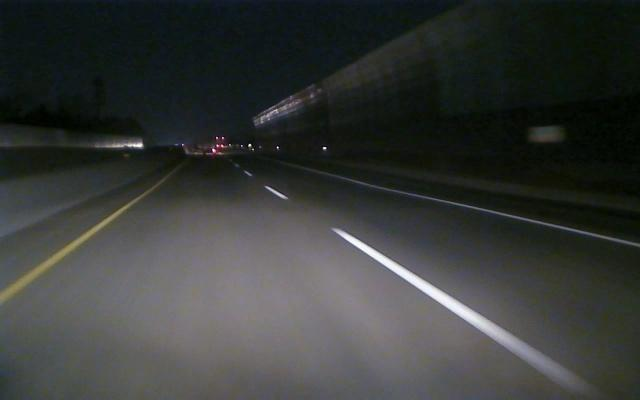lane: (259, 179, 610, 397), (321, 170, 640, 248), (2, 182, 160, 302)
